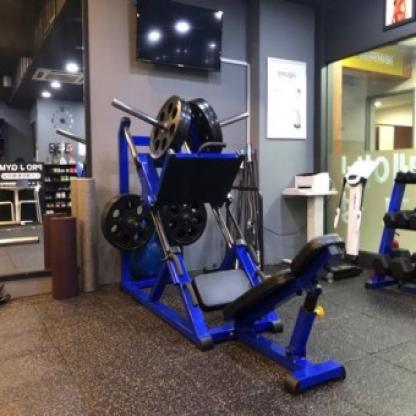leg press: (78, 88, 361, 404)
